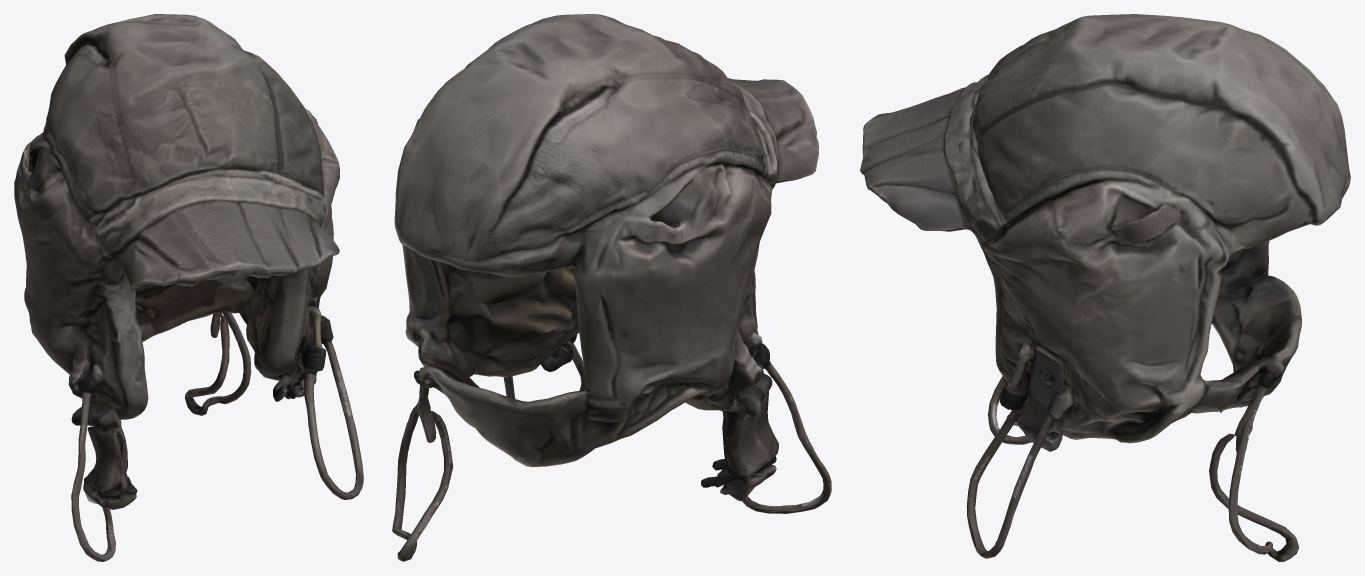
Rendered from riader_hood_hat.glb.
3 renders of one model, left to right at view 1: azimuth 30°, elevation 25°; view 2: azimuth 150°, elevation 25°; view 3: azimuth 270°, elevation 25°, orthographic. The views are drawn at different scales.
Visible parts, largest first — view 1: Object_4; view 2: Object_4; view 3: Object_4.
Boxes of the visible parts, x1,y1,x2,y2 form: Object_4: [14, 14, 363, 561]; Object_4: [392, 14, 831, 561]; Object_4: [860, 14, 1350, 561].
Size of the model in its own units: 0.7312 by 1 by 0.9195.
1 material, 1 textured.
